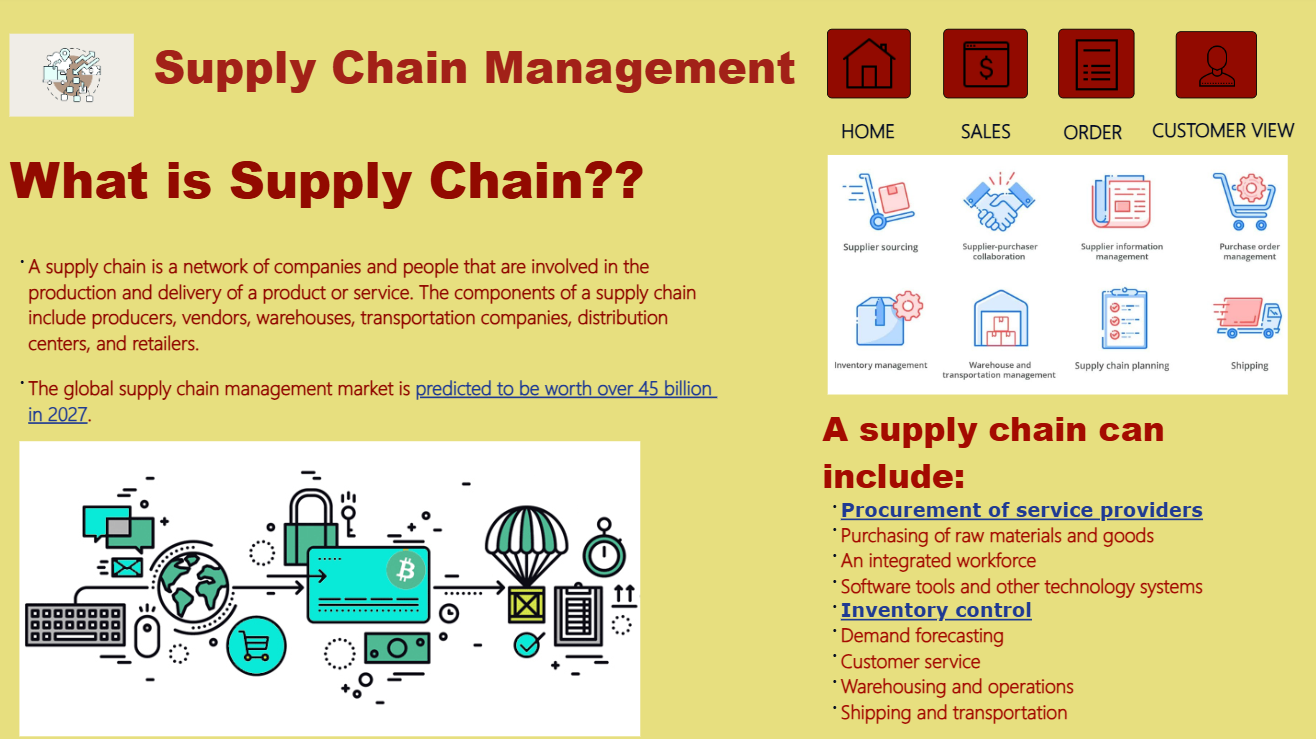

What the dashboard file says about the page in this screenshot:
{"tool":"powerbi","page":{"name":"Home","canvas":[1280,720],"ordinal":0},"visuals":[{"type":"image","box":[918.3,33,81.9,67.3],"z":0},{"type":"image","box":[805.8,33,80.7,67.3],"z":1000},{"type":"image","box":[1029.1,32.6,73.6,67.6],"z":2000},{"type":"image","box":[1142.5,35,78.4,65.1],"z":3000},{"type":"textbox","box":[808.3,113.7,74.6,36.7],"z":4000},{"type":"textbox","box":[1029.1,114.6,85.7,38.6],"z":5000},{"type":"textbox","box":[930.6,113.7,75.8,47.7],"z":6000},{"type":"textbox","box":[1114.7,112.2,165.3,42.2],"z":7000},{"type":"image","box":[12.2,25.7,129.6,103.9],"z":8000},{"type":"textbox","box":[150.4,33,655.4,89.3],"z":9000},{"type":"textbox","box":[12.1,138.7,702.1,298],"z":10000},{"type":"textbox","box":[796.3,390.9,483.8,329.4],"z":11000},{"type":"image","box":[12.1,425.9,627.3,294.4],"z":12000},{"type":"image","box":[784.2,149.6,488.6,241.3],"z":13000}]}

Visuals, with their boxes in screenshot pixels (x1, y1, x2, y2), scaled from the page's 1280x720 canvas onto the 1316x739 screenshot:
image: [944,34,1028,103]
image: [828,34,911,103]
image: [1058,33,1134,103]
image: [1175,36,1255,103]
textbox: [831,117,908,154]
textbox: [1058,118,1146,157]
textbox: [957,117,1035,166]
textbox: [1146,115,1315,158]
image: [13,26,146,133]
textbox: [155,34,828,126]
textbox: [12,142,734,448]
textbox: [819,401,1315,738]
image: [12,437,657,738]
image: [806,154,1309,401]
